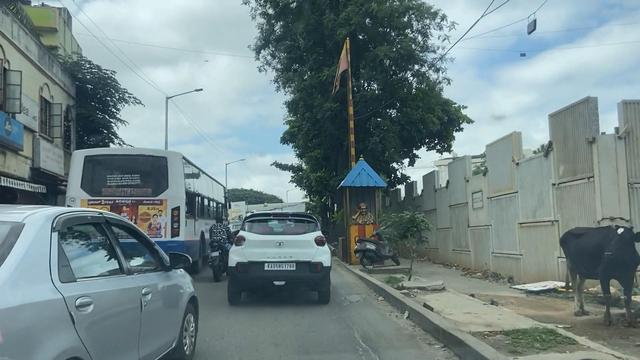LMV: (237, 209, 314, 310), (208, 217, 231, 283)
RoadDamages: (337, 324, 378, 360), (340, 291, 371, 315)
